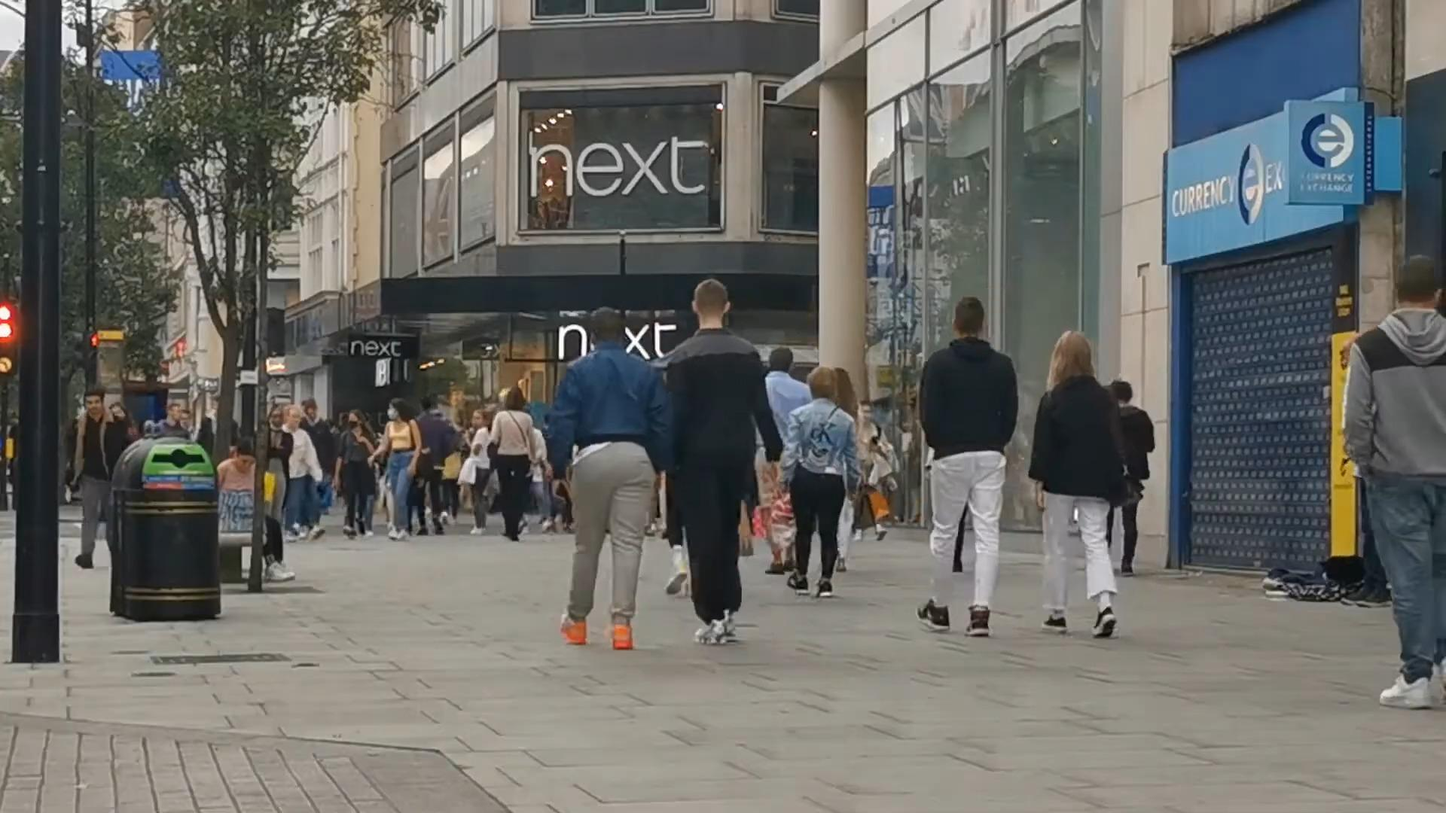no-helmet: (1047, 330, 1095, 390), (1396, 253, 1443, 310), (691, 280, 732, 326), (952, 295, 985, 337), (589, 305, 625, 343), (808, 366, 840, 408), (233, 436, 256, 472), (83, 386, 106, 415), (387, 397, 413, 422), (769, 347, 794, 372), (504, 386, 525, 410), (285, 404, 302, 428), (348, 410, 367, 431), (166, 402, 182, 422)
